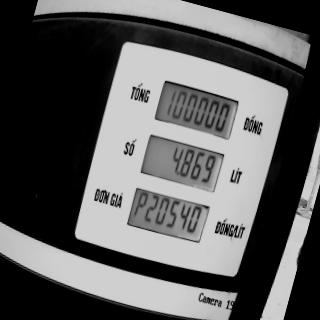screen: (123, 75, 242, 248)
